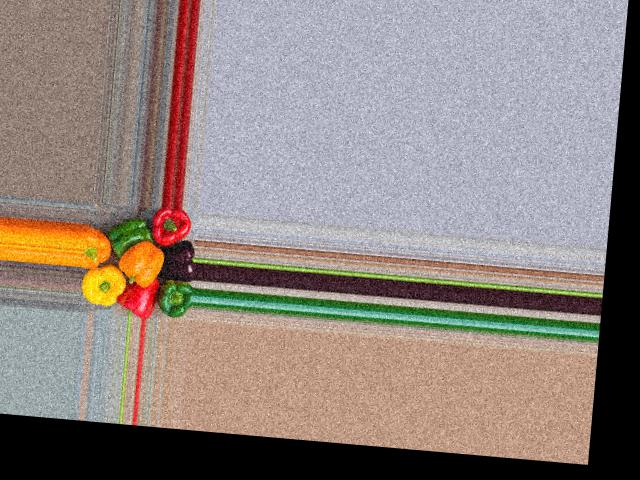bell_pepper: (82, 214, 123, 270)
